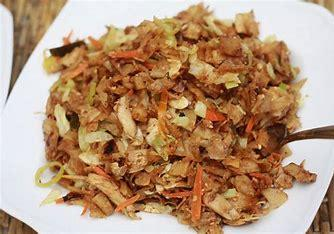Kottu: (37, 19, 317, 215)
